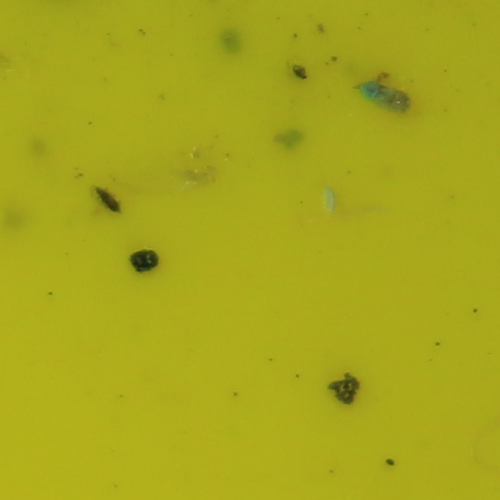psylla: (354, 78, 414, 119)
